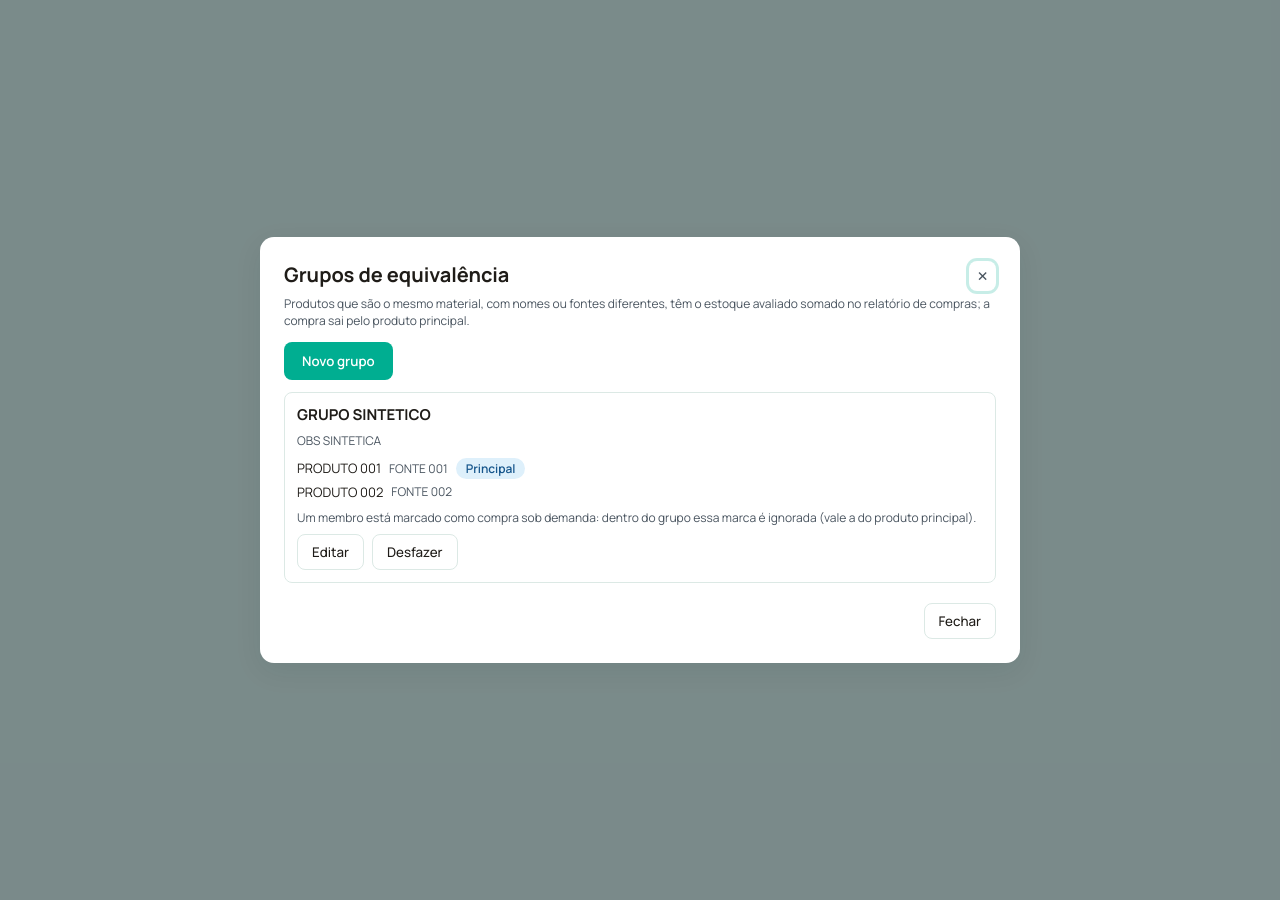
Test: ForecastGruposModal - criar › candidatos: so ativos e livres; produto de outro grupo nao aparece e a contagem explica
This screenshot has width=1280, height=900.
What coordinates should you click on to do the following:
click the button "Novo grupo"
I would click on:
 (338, 361)
Its box is x1=284 y1=342 x2=393 y2=380.
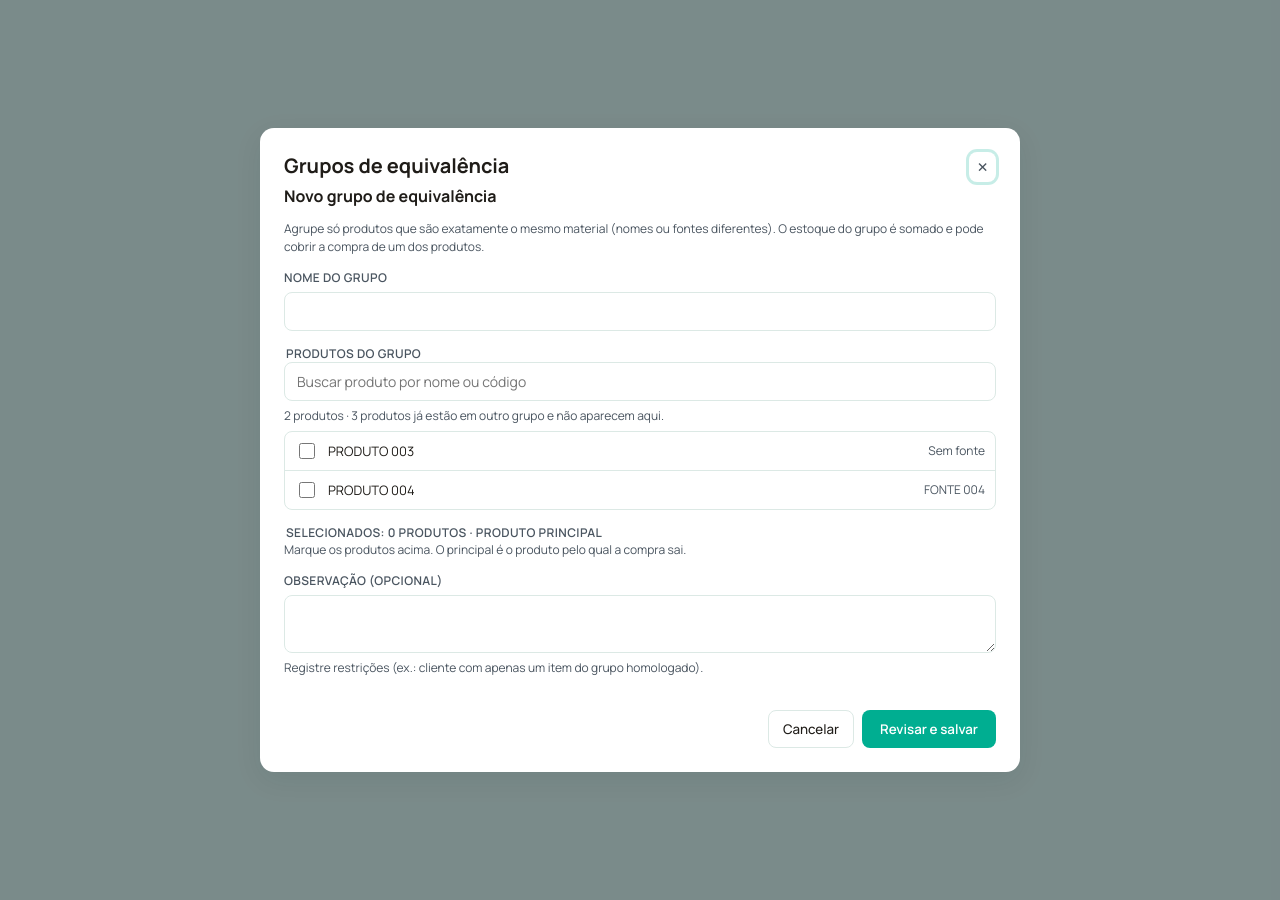
Result: the text "2 produtos · 3 produtos já estão em outro grupo e não aparecem aqui." is shown at x1=284 y1=407 x2=664 y2=424
